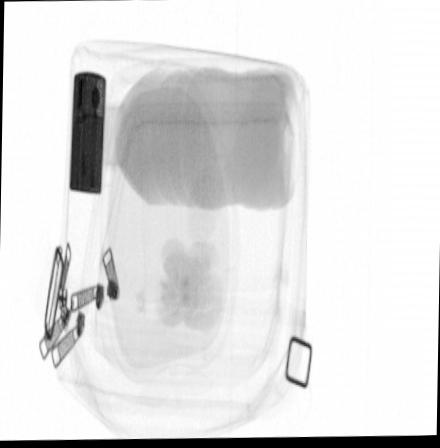Lighter: (68, 69, 106, 195)
